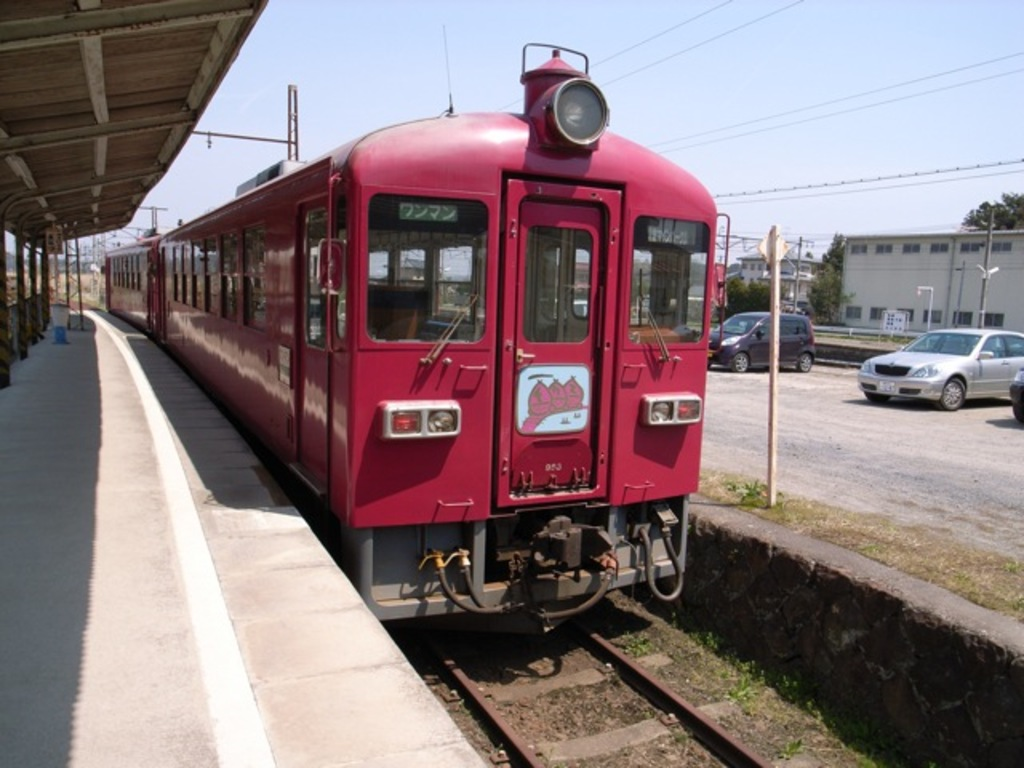Car: (856, 320, 1008, 409), (705, 305, 816, 375), (1008, 368, 1022, 423)
